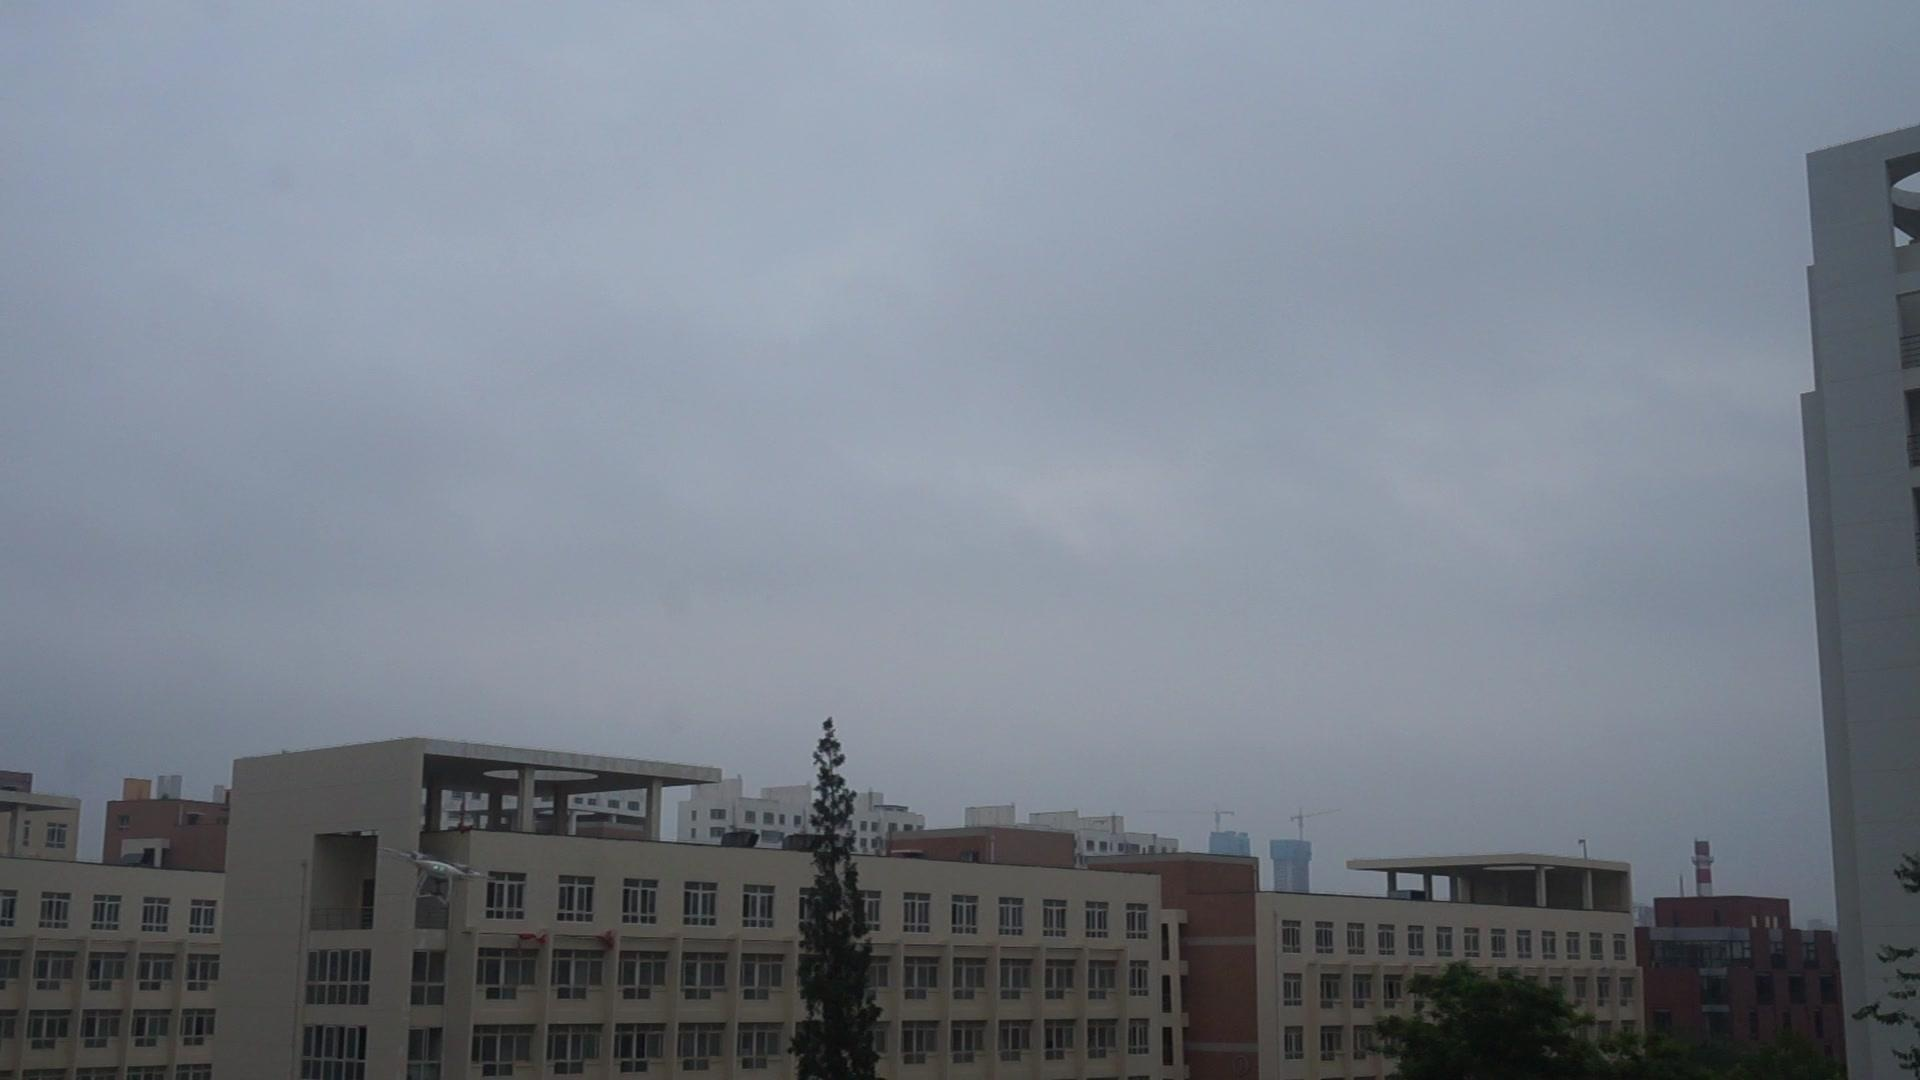UAV: (385, 851, 497, 906)
